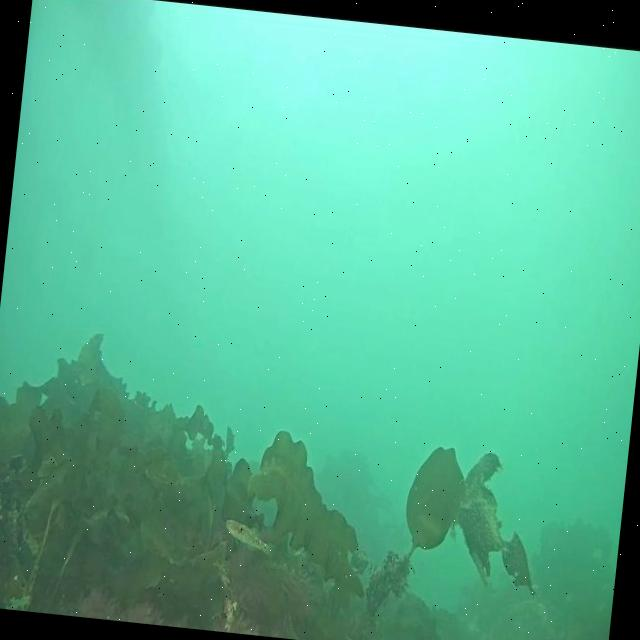fish: (222, 518, 274, 556)
